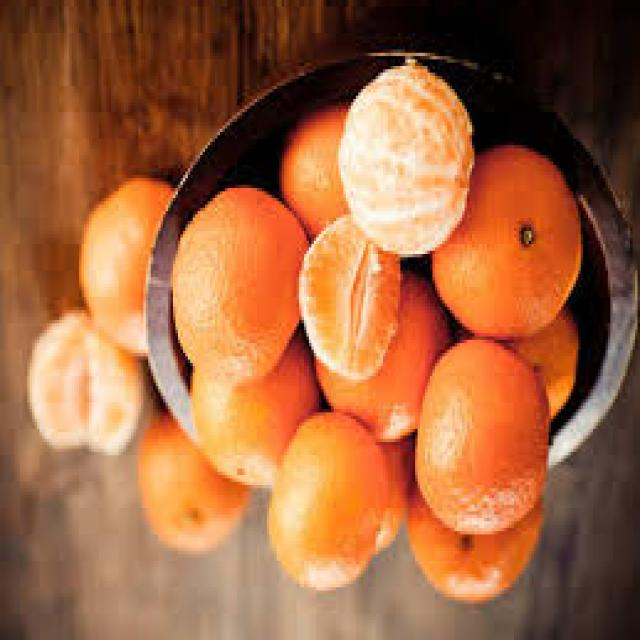orange: (415, 333, 559, 534), (260, 398, 394, 590)
